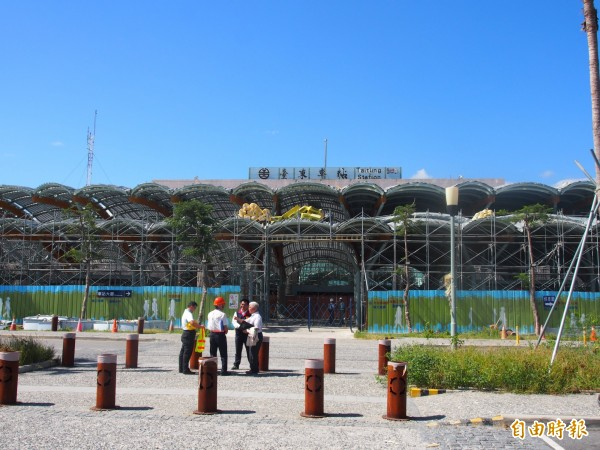people: (206, 297, 229, 374), (243, 302, 268, 371), (229, 297, 252, 369), (178, 300, 199, 375)
